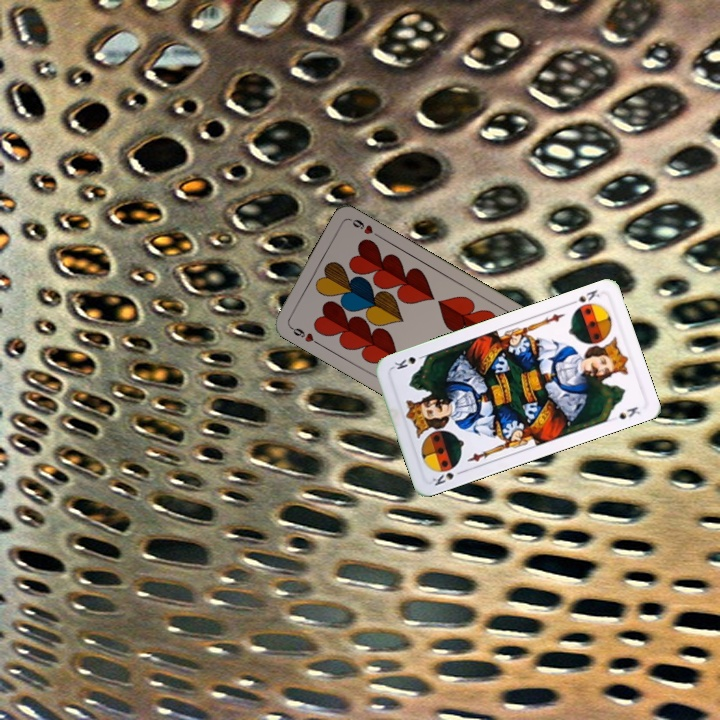H9: (285, 321, 322, 347)
SK: (428, 466, 467, 488), (565, 285, 602, 308)
